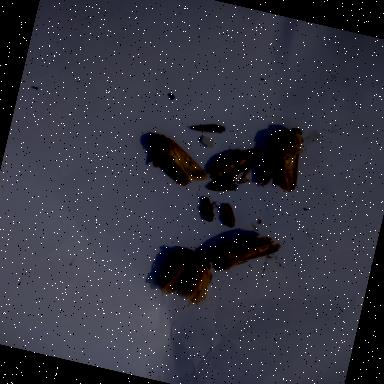abw: (138, 131, 216, 197), (262, 124, 320, 203), (210, 226, 284, 286), (200, 136, 265, 194), (176, 250, 222, 314), (153, 244, 192, 300)
pbw: (206, 174, 242, 200), (193, 117, 228, 140), (216, 201, 240, 230), (196, 196, 219, 225), (256, 160, 278, 190)
